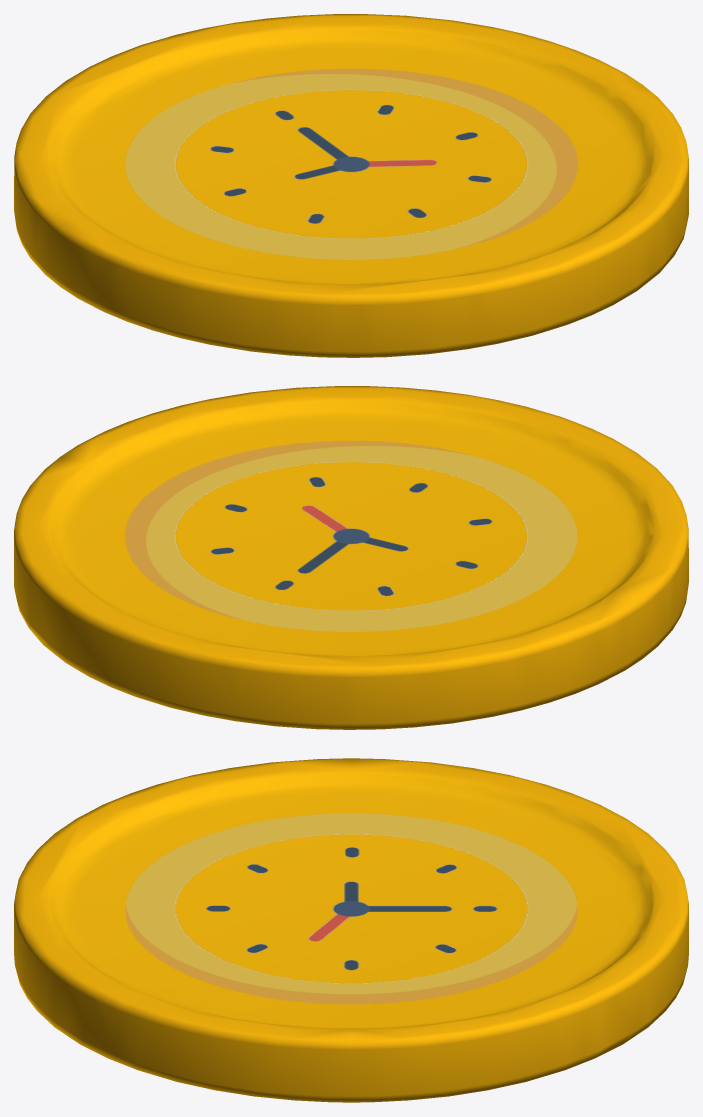
Rendered from coin2.glb.
3 renders of one model, top to bottom at view 1: azimuth 30°, elevation 25°; view 2: azimuth 150°, elevation 25°; view 3: azimuth 270°, elevation 25°, orthographic.
Parts seen in each view (by area): view 1: Cylinder.001 (×2), reloj 1; view 2: Cylinder.001 (×2), reloj 1; view 3: Cylinder.001 (×2), reloj 1.
Boxes of the visible parts, box(x1,y1,x2,y2) form: Cylinder.001 (×2): box(14, 14, 688, 357); reloj 1: box(125, 68, 577, 259); Cylinder.001 (×2): box(14, 386, 688, 729); reloj 1: box(125, 440, 577, 631); Cylinder.001 (×2): box(14, 758, 688, 1102); reloj 1: box(125, 813, 577, 1004).
Size of the model in its own units: 1.99 by 0.2001 by 1.99.
Materials: 4 (2 with a texture image).
